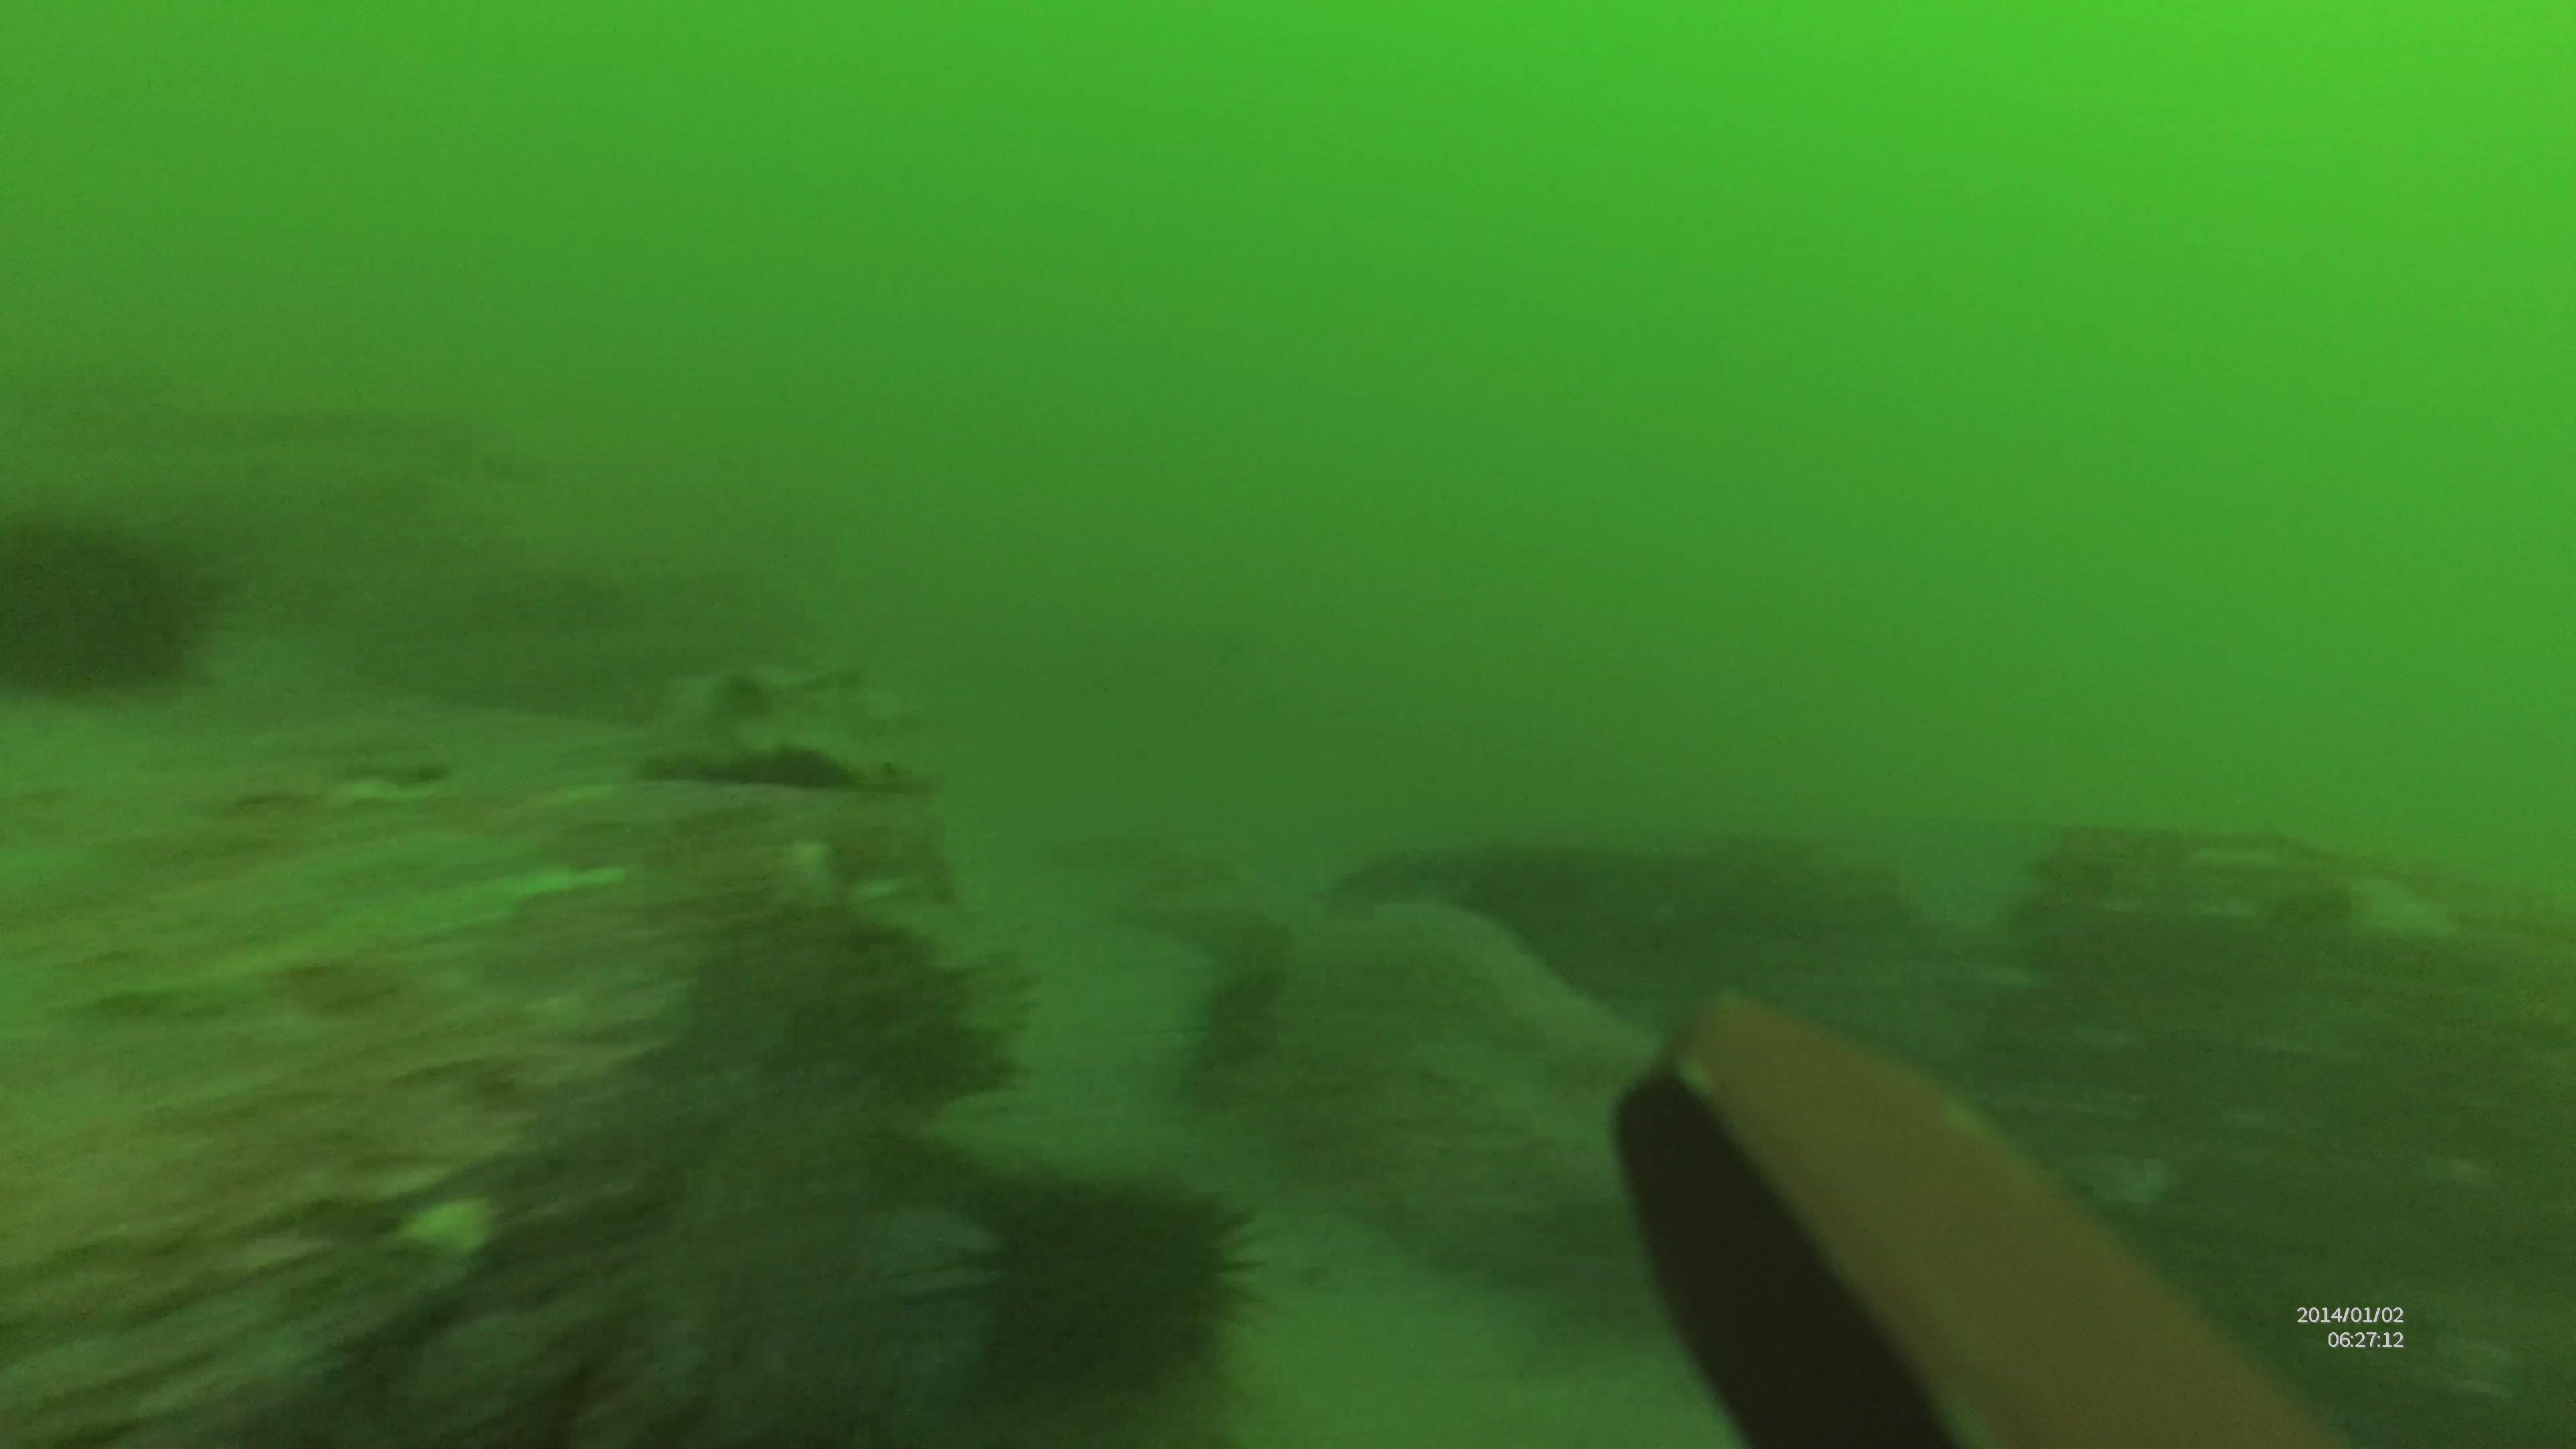echinus: (966, 1168, 1265, 1401), (0, 518, 214, 697)
